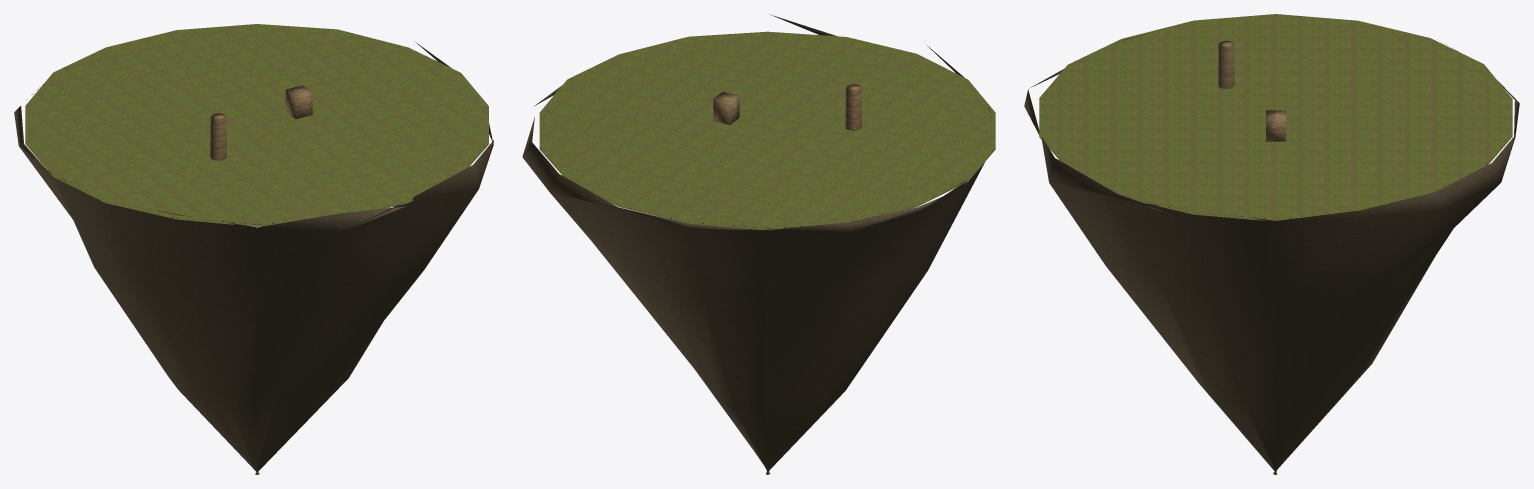
File: sky_island_0.glb
3 renders of one model, left to right at view 1: azimuth 30°, elevation 25°; view 2: azimuth 150°, elevation 25°; view 3: azimuth 270°, elevation 25°, orthographic. The views are drawn at different scales.
Visible parts, largest first — view 1: sky_island_0; view 2: sky_island_0; view 3: sky_island_0.
Boxes of the visible parts, bbox=[...] form: sky_island_0: bbox=[14, 24, 493, 474]; sky_island_0: bbox=[522, 14, 995, 474]; sky_island_0: bbox=[1024, 14, 1519, 474].
Bounding box in the file's own units: 72.08 × 65.85 × 74.09.
3 materials, 3 textured.
